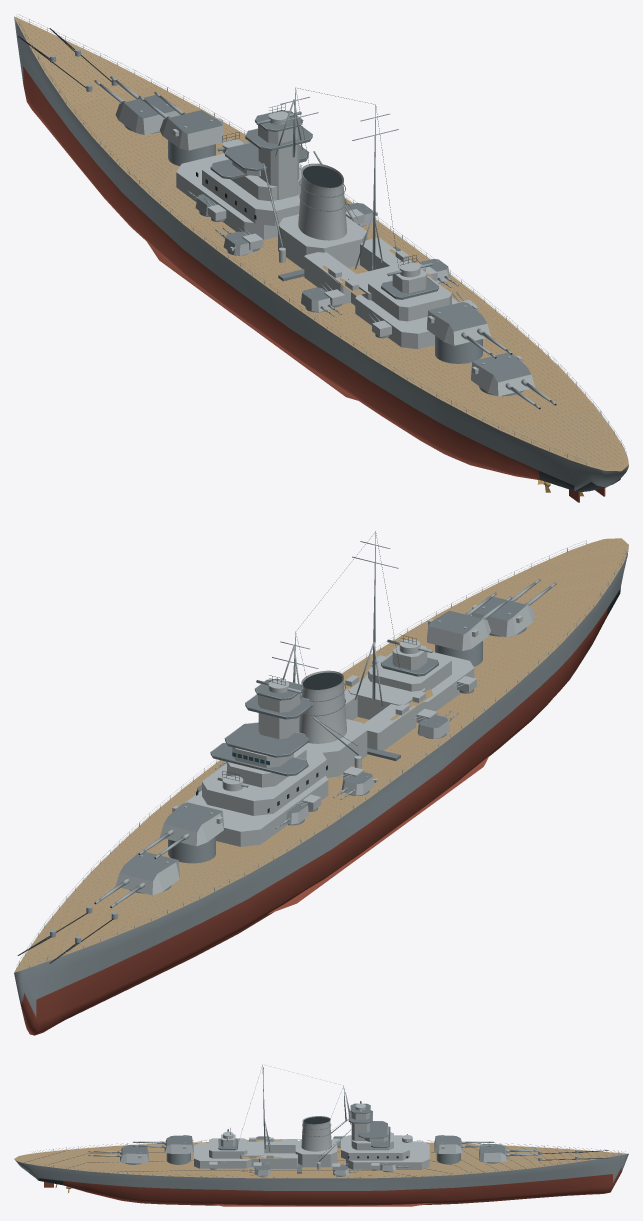
The model's file is bismarck.glb.
3 views of the same model, one above another, from view 1: azimuth 30°, elevation 25°; view 2: azimuth 150°, elevation 25°; view 3: azimuth 270°, elevation 25° (orthographic). The views are drawn at different scales.
Parts seen in each view (by area): view 1: Independently lofted hull, superstructure.mesh.001, superstructure-funnel.mesh, superstructure-funnel-base.mesh, superstructure-forward-shelter-deck.mesh, superstructure-forward-battery-deck.mesh, caesar.yaw.mesh, dora.yaw.mesh, bruno.yaw.mesh, superstructure-aft-control-deck.mesh, superstructure-aft-battery-deck.mesh, superstructure-tower-mast-base.mesh (+10 smaller); view 2: Independently lofted hull, superstructure.mesh.001, superstructure-forward-shelter-deck.mesh, superstructure-forward-battery-deck.mesh, superstructure-funnel.mesh, bruno.yaw.mesh, anton.yaw.mesh, caesar.yaw.mesh, superstructure-funnel-base.mesh, superstructure.mesh, superstructure-bridge-admiral-platform.mesh, superstructure-hangar-port.mesh (+10 smaller); view 3: Independently lofted hull, superstructure.mesh.001, hull.mesh, superstructure-forward-shelter-deck.mesh, superstructure-forward-battery-deck.mesh, superstructure-funnel.mesh, superstructure-funnel-base.mesh, superstructure-aft-battery-deck.mesh, superstructure.mesh, superstructure-aft-control-deck.mesh, hull-underwater.mesh, superstructure-hangar-starboard.mesh (+11 smaller).
Part boxes in pixels (<box>): Independently lofted hull: <box>14,16,628,491</box>; superstructure.mesh.001: <box>16,14,626,464</box>; superstructure-funnel.mesh: <box>298,163,346,240</box>; superstructure-funnel-base.mesh: <box>278,214,367,268</box>; superstructure-forward-shelter-deck.mesh: <box>202,157,299,225</box>; superstructure-forward-battery-deck.mesh: <box>176,153,277,239</box>; caesar.yaw.mesh: <box>427,301,490,345</box>; dora.yaw.mesh: <box>471,352,535,396</box>; bruno.yaw.mesh: <box>159,110,223,150</box>; superstructure-aft-control-deck.mesh: <box>368,275,451,321</box>; superstructure-aft-battery-deck.mesh: <box>355,294,458,349</box>; superstructure-tower-mast-base.mesh: <box>258,144,299,199</box>; Independently lofted hull: <box>14,538,628,1035</box>; superstructure.mesh.001: <box>16,531,626,968</box>; superstructure-forward-shelter-deck.mesh: <box>202,747,326,815</box>; superstructure-forward-battery-deck.mesh: <box>184,776,328,846</box>; superstructure-funnel.mesh: <box>299,670,346,743</box>; bruno.yaw.mesh: <box>160,802,223,846</box>; anton.yaw.mesh: <box>115,852,179,895</box>; caesar.yaw.mesh: <box>427,610,490,651</box>; superstructure-funnel-base.mesh: <box>304,719,367,777</box>; superstructure.mesh: <box>196,654,438,812</box>; superstructure-bridge-admiral-platform.mesh: <box>225,723,308,757</box>; superstructure-hangar-port.mesh: <box>363,703,416,750</box>; Independently lofted hull: <box>14,1142,628,1205</box>; superstructure.mesh.001: <box>30,1064,625,1177</box>; hull.mesh: <box>24,1143,621,1176</box>; superstructure-forward-shelter-deck.mesh: <box>341,1135,409,1160</box>; superstructure-forward-battery-deck.mesh: <box>346,1141,429,1169</box>; superstructure-funnel.mesh: <box>301,1116,331,1151</box>; superstructure-funnel-base.mesh: <box>295,1139,337,1167</box>; superstructure-aft-battery-deck.mesh: <box>194,1143,251,1168</box>; superstructure.mesh: <box>218,1103,408,1158</box>; superstructure-aft-control-deck.mesh: <box>209,1138,247,1158</box>; hull-underwater.mesh: <box>44,1182,433,1206</box>; superstructure-hangar-starboard.mesh: <box>259,1153,297,1168</box>.
Bounding box in the file's own units: 36 × 57.85 × 250.
